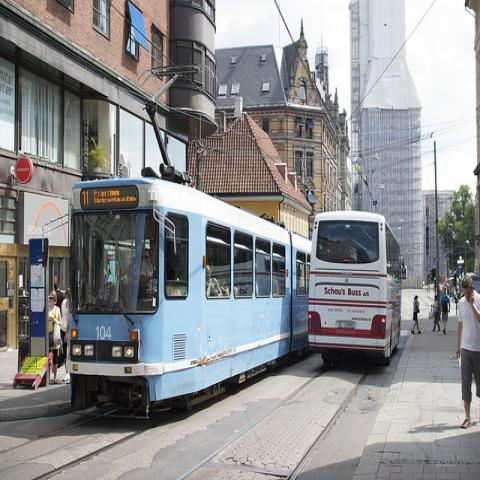bus: (62, 183, 306, 417), (308, 209, 410, 374)
